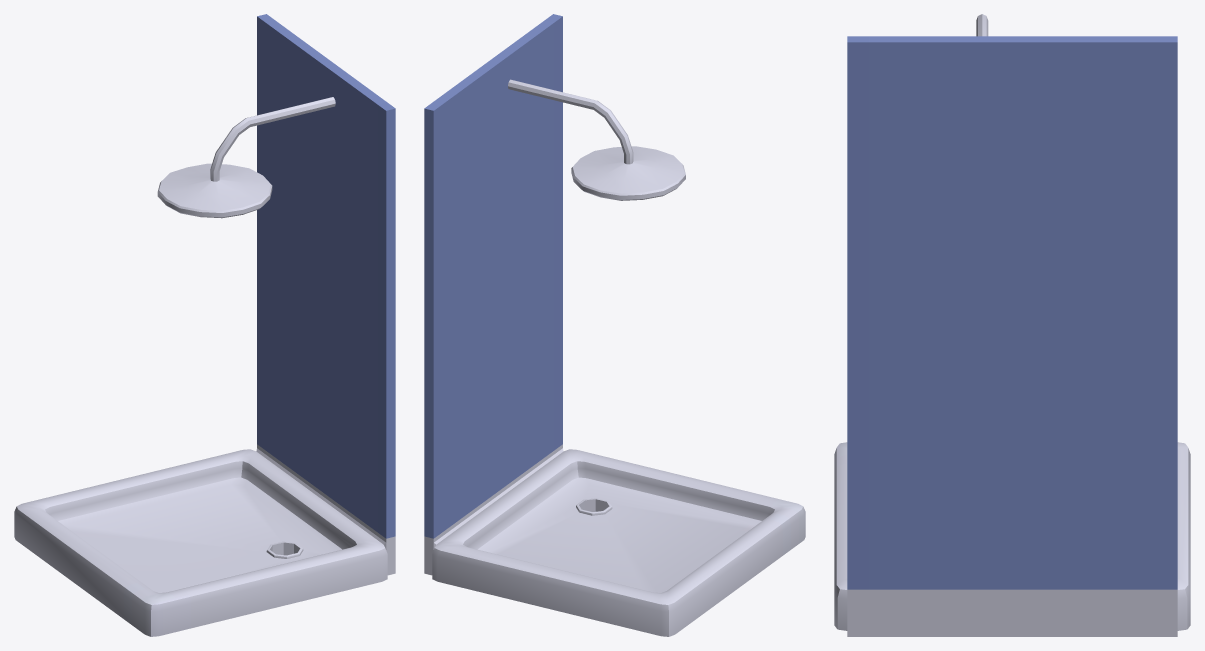
Rendered from obj_shower_1x1.FBX.
3 renders of one model, left to right at view 1: azimuth 30°, elevation 25°; view 2: azimuth 150°, elevation 25°; view 3: azimuth 270°, elevation 25°, orthographic. The views are drawn at different scales.
Visible parts, largest first — view 1: obj_shower_1x1; view 2: obj_shower_1x1; view 3: obj_shower_1x1.
Boxes of the visible parts, x1=… form: obj_shower_1x1: x1=14, y1=14, x2=395, y2=636; obj_shower_1x1: x1=424, y1=14, x2=805, y2=636; obj_shower_1x1: x1=834, y1=14, x2=1190, y2=636.
Bounding box in the file's own units: 0.871 × 1.54 × 0.8377.
Materials: 1 (1 with a texture image).
